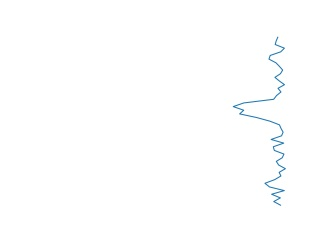interdistributaryEstuary: (230, 35, 293, 207)
